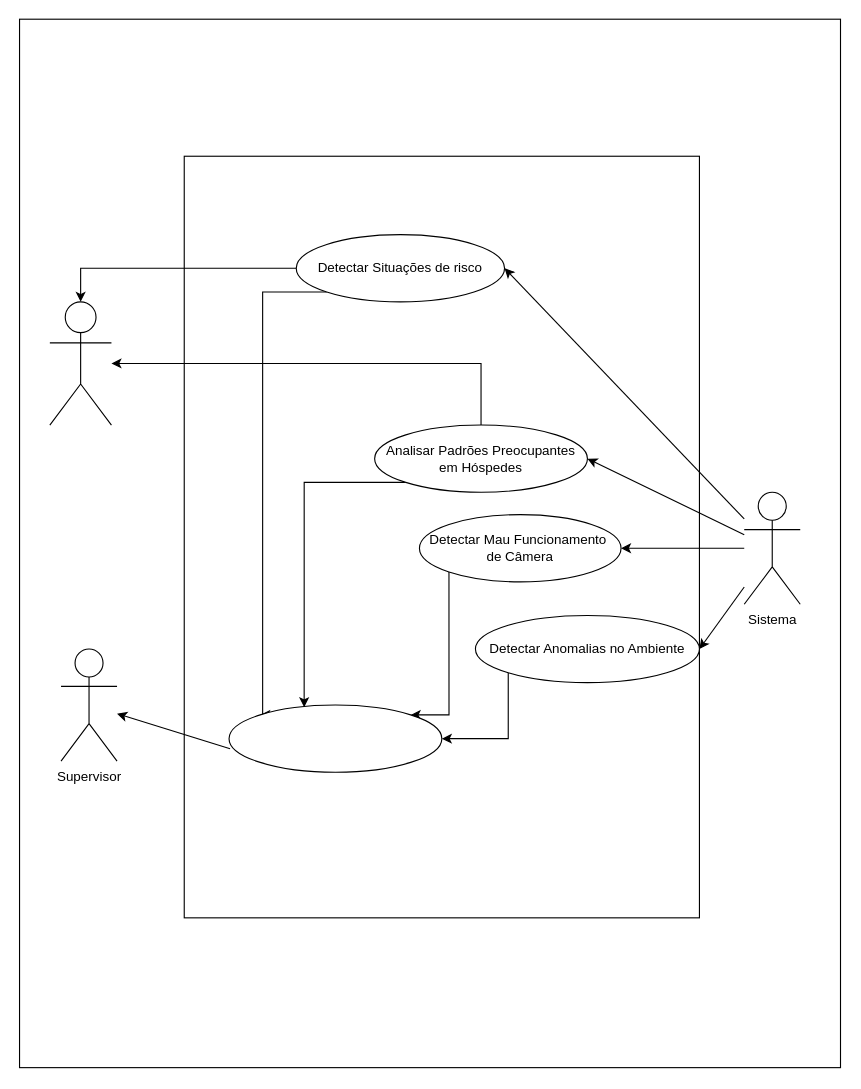
Image size: 861x1089. Some labels were removed from this diagram. Here are the shapes that lost their labels. From the top down, the centre of each, then its label:
At pixel 80 363: "Hóspede".
At pixel 335 738: "Alertar Anomalias".
